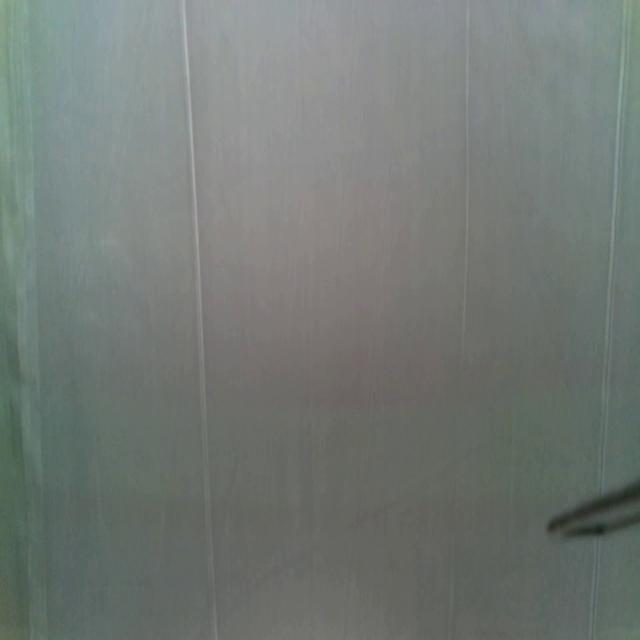crease: (0, 0, 49, 636), (177, 0, 218, 640), (598, 0, 630, 488), (460, 2, 472, 340), (587, 536, 602, 636)
